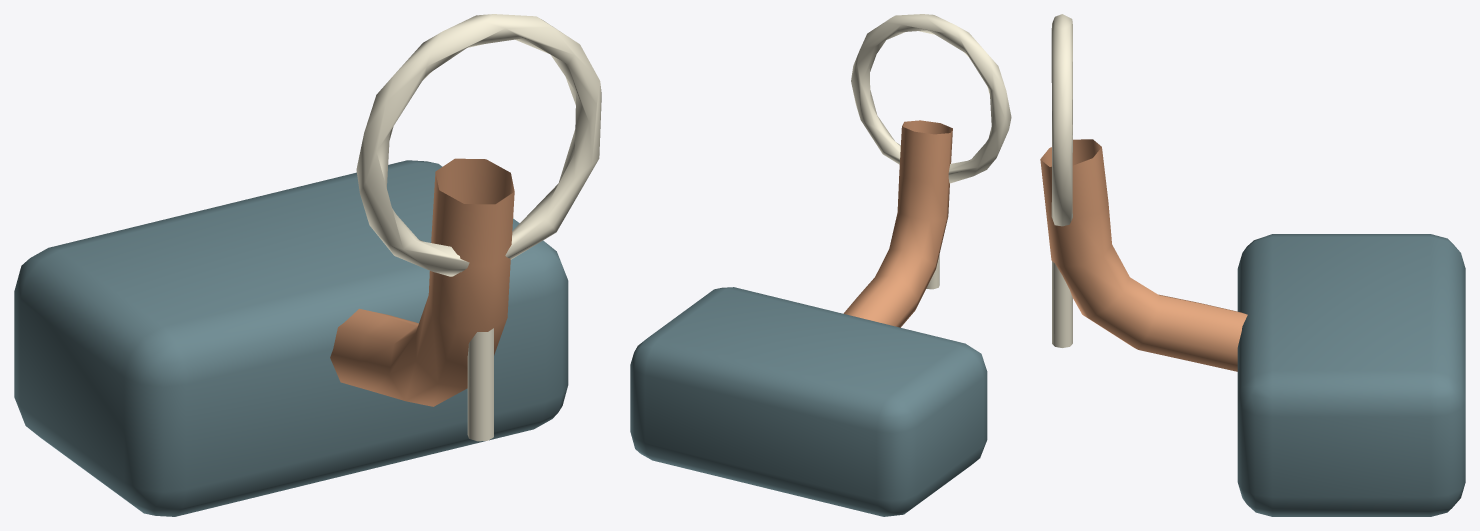
File: climb_peg.glb
3 views of the same model, side by side, from view 1: azimuth 30°, elevation 25°; view 2: azimuth 150°, elevation 25°; view 3: azimuth 270°, elevation 25° (orthographic). The views are drawn at different scales.
Visible parts, largest first — view 1: FootHold, CopperPeg, RingAndPath, RingPath; view 2: FootHold, CopperPeg, RingAndPath; view 3: FootHold, CopperPeg, RingAndPath, RingPath.
Boxes of the visible parts, x1,y1,x2,y2 form: FootHold: (14,160,568,516); CopperPeg: (330,158,514,406); RingAndPath: (356,14,601,276); RingPath: (467,328,493,441); FootHold: (630,287,987,516); CopperPeg: (843,120,952,327); RingAndPath: (851,14,1011,183); FootHold: (1237,234,1465,516); CopperPeg: (1040,139,1247,371); RingAndPath: (1051,14,1072,226); RingPath: (1052,261,1072,347).
Bounding box in the file's own units: 0.22 × 0.2659 × 0.2426.
